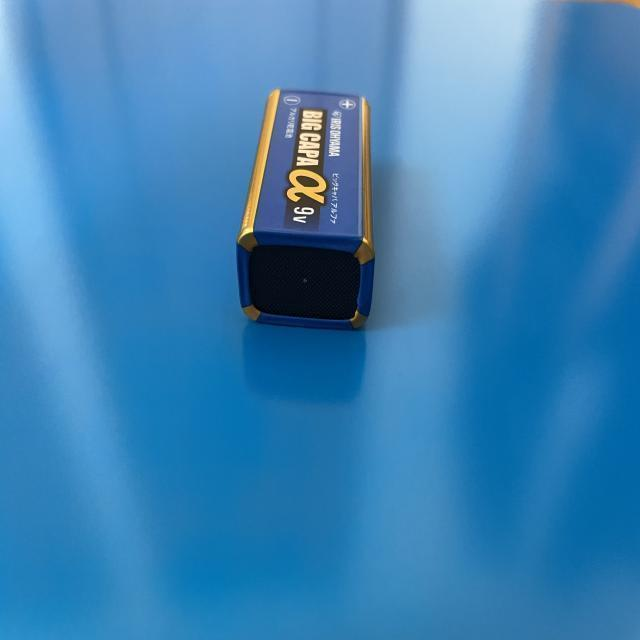9V: (235, 88, 375, 327)
